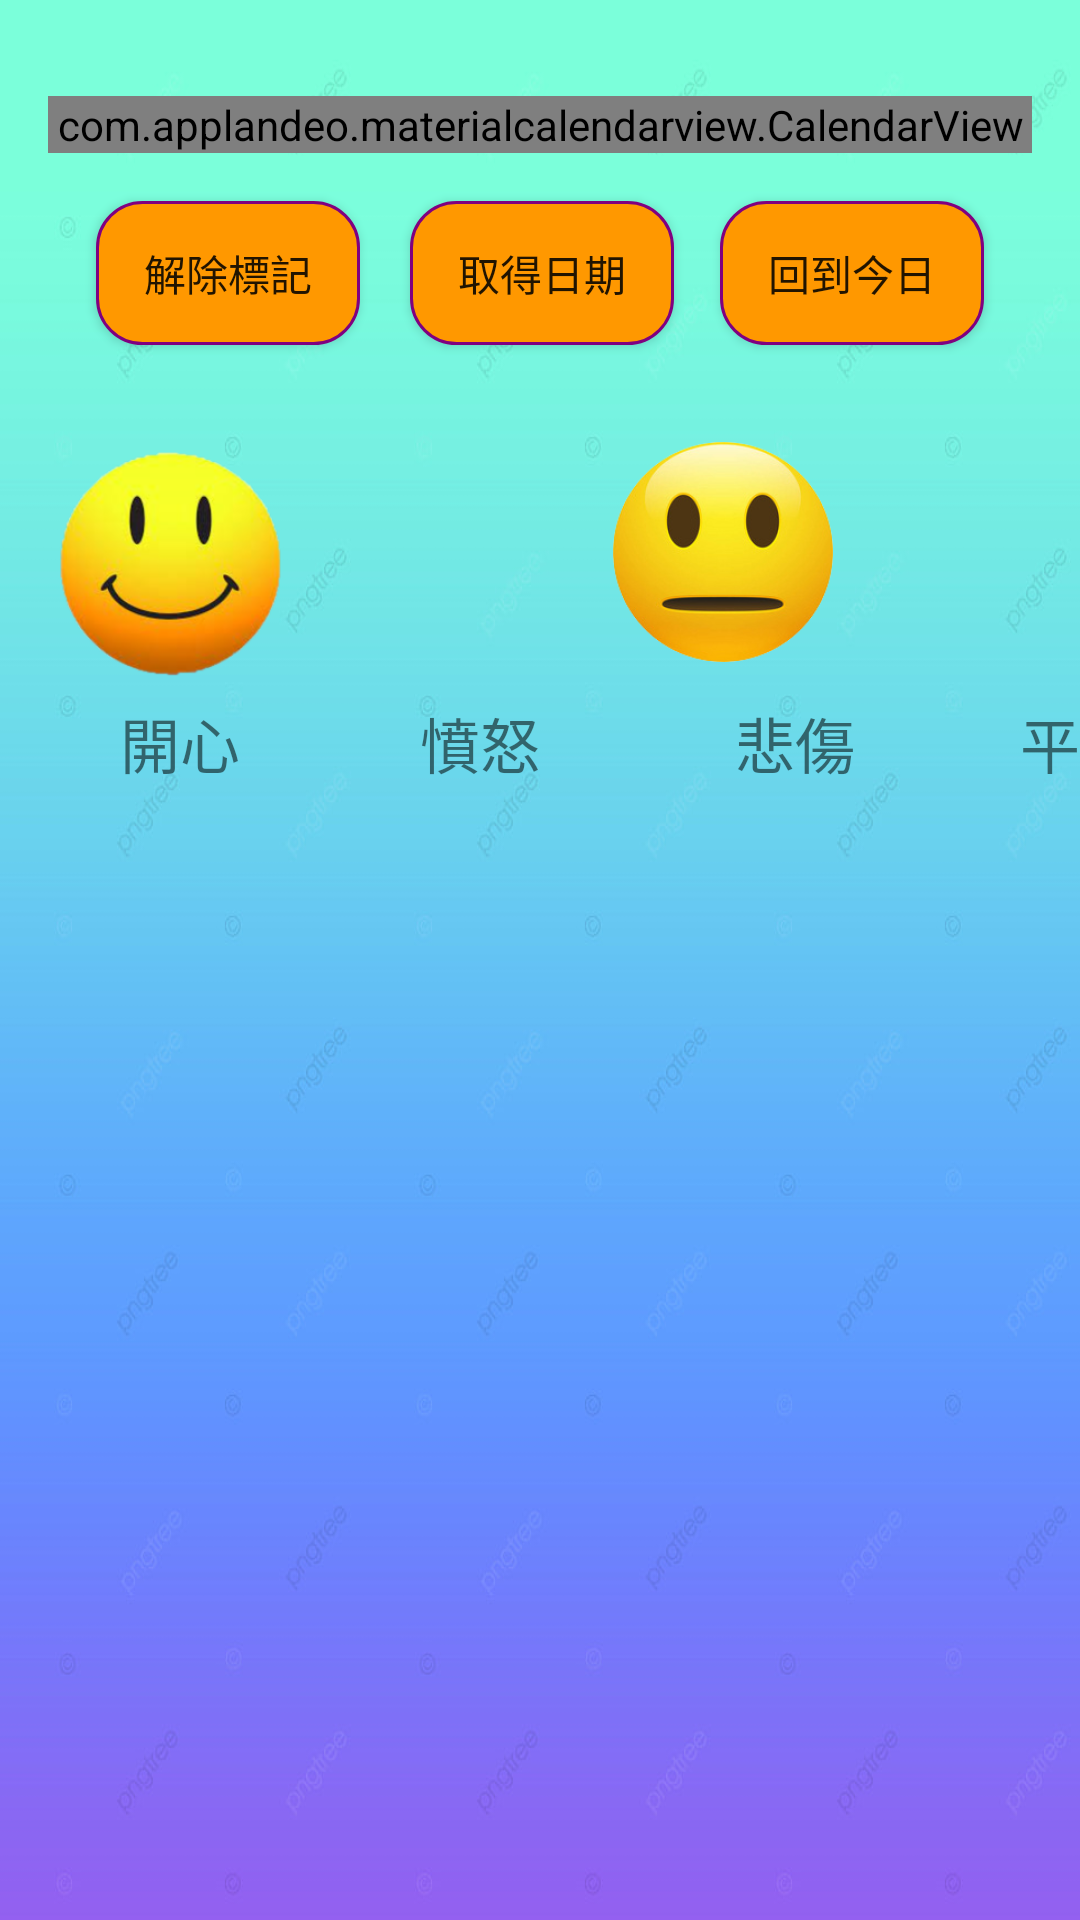

Icons on this 1080x1920 Android screen, each with its box as bbox=[x1, y1, x2, y2]:
mood: bbox=[60, 444, 294, 676]
nomood: bbox=[591, 431, 833, 662]
